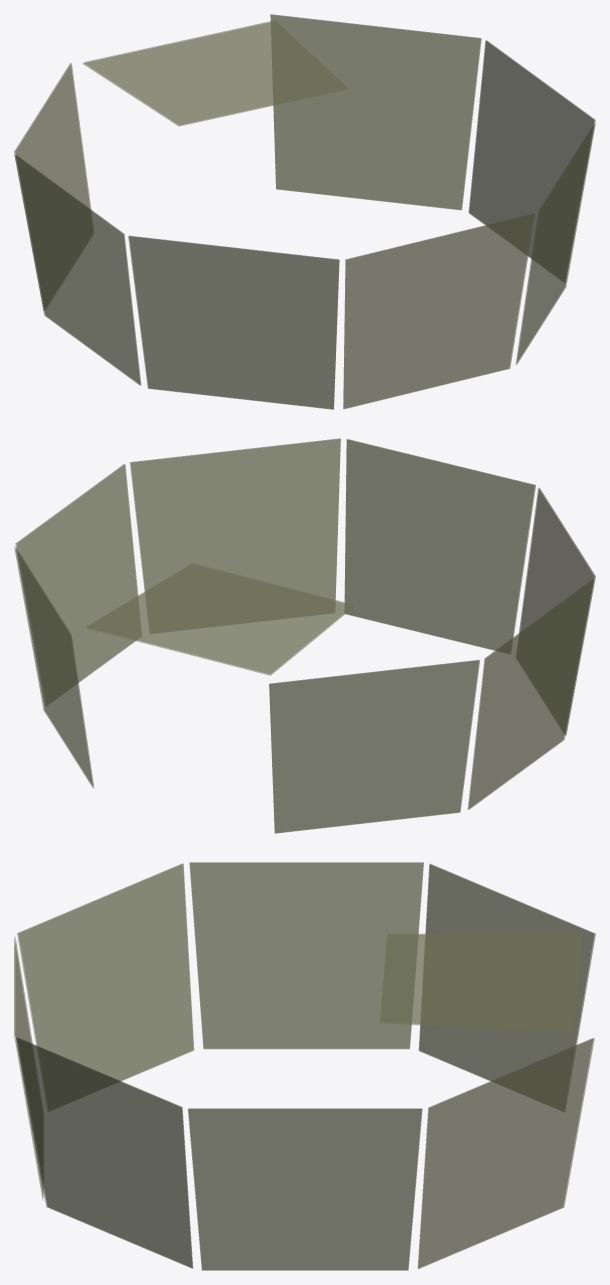
The model's file is SM_Bld_ControlTower_Glass_01.fbx.
The picture shows the model from 3 angles, top to bottom: view 1: azimuth 30°, elevation 25°; view 2: azimuth 150°, elevation 25°; view 3: azimuth 270°, elevation 25°; orthographic projection. The views are drawn at different scales.
Visible parts, largest first — view 1: SM_Bld_ControlTower_Glass_01; view 2: SM_Bld_ControlTower_Glass_01; view 3: SM_Bld_ControlTower_Glass_01.
Boxes of the visible parts, x1,y1,x2,y2 form: SM_Bld_ControlTower_Glass_01: (14, 14, 595, 409); SM_Bld_ControlTower_Glass_01: (14, 438, 595, 833); SM_Bld_ControlTower_Glass_01: (14, 862, 595, 1270).
Bounding box in the file's own units: 794 × 270 × 791.
